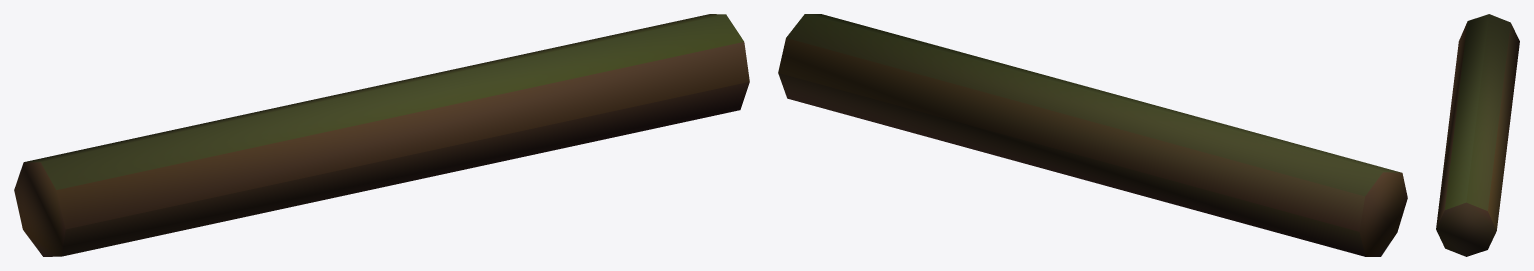
Rendered from deadwood_bk_foret_broceliande_0002.glb.
The picture shows the model from 3 angles, left to right: view 1: azimuth 30°, elevation 25°; view 2: azimuth 150°, elevation 25°; view 3: azimuth 270°, elevation 25°; orthographic projection. The views are drawn at different scales.
Parts seen in each view (by area): view 1: deadwood_bk_002; view 2: deadwood_bk_002; view 3: deadwood_bk_002.
Part boxes in pixels (<box>): deadwood_bk_002: <box>14,14,749,256</box>; deadwood_bk_002: <box>778,14,1407,256</box>; deadwood_bk_002: <box>1436,14,1519,256</box>.
Bounding box in the file's own units: 1.81 × 0.2446 × 0.3368.
